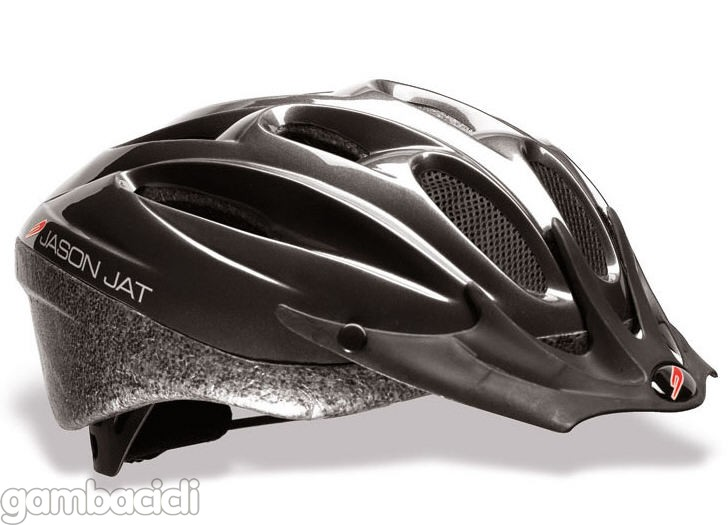helmet: (58, 105, 680, 432)
